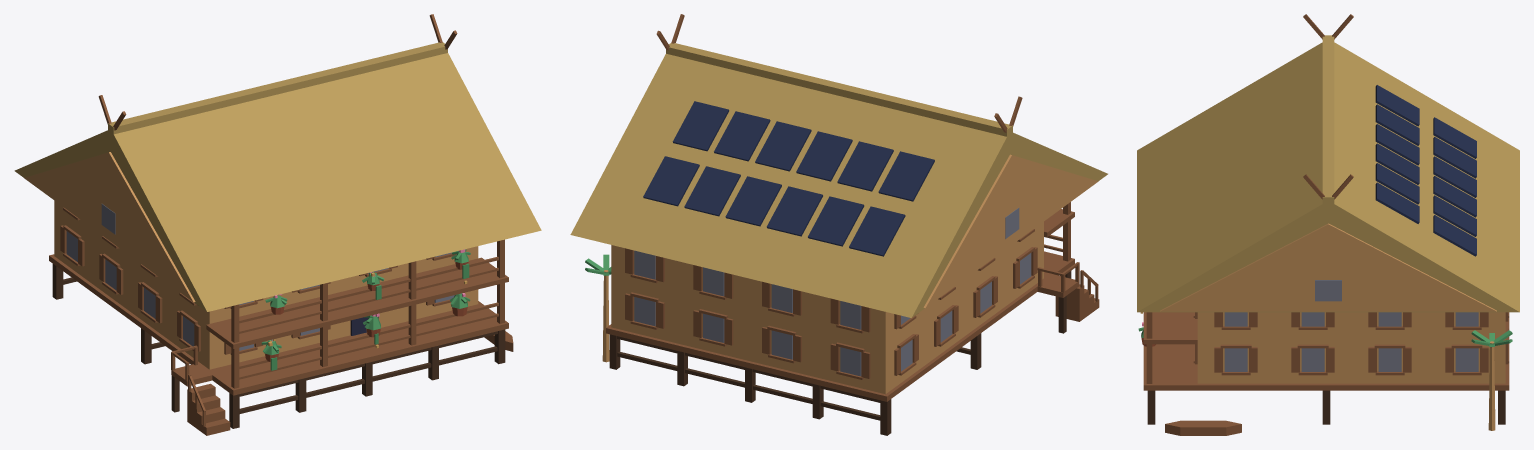
Rendered from house-2x2-2f-stilt-a-solar.glb.
The picture shows the model from 3 angles, left to right: view 1: azimuth 30°, elevation 25°; view 2: azimuth 150°, elevation 25°; view 3: azimuth 270°, elevation 25°; orthographic projection. The views are drawn at different scales.
Visible parts, largest first — view 1: house-2x2-2f-stilt-a-solar; view 2: house-2x2-2f-stilt-a-solar; view 3: house-2x2-2f-stilt-a-solar.
Boxes of the visible parts, x1,y1,x2,y2 form: house-2x2-2f-stilt-a-solar: (14,14,541,435); house-2x2-2f-stilt-a-solar: (570,14,1107,435); house-2x2-2f-stilt-a-solar: (1137,14,1519,435).
Size of the model in its own units: 2.02 by 1.51 by 1.99.
1 material, 1 textured.
